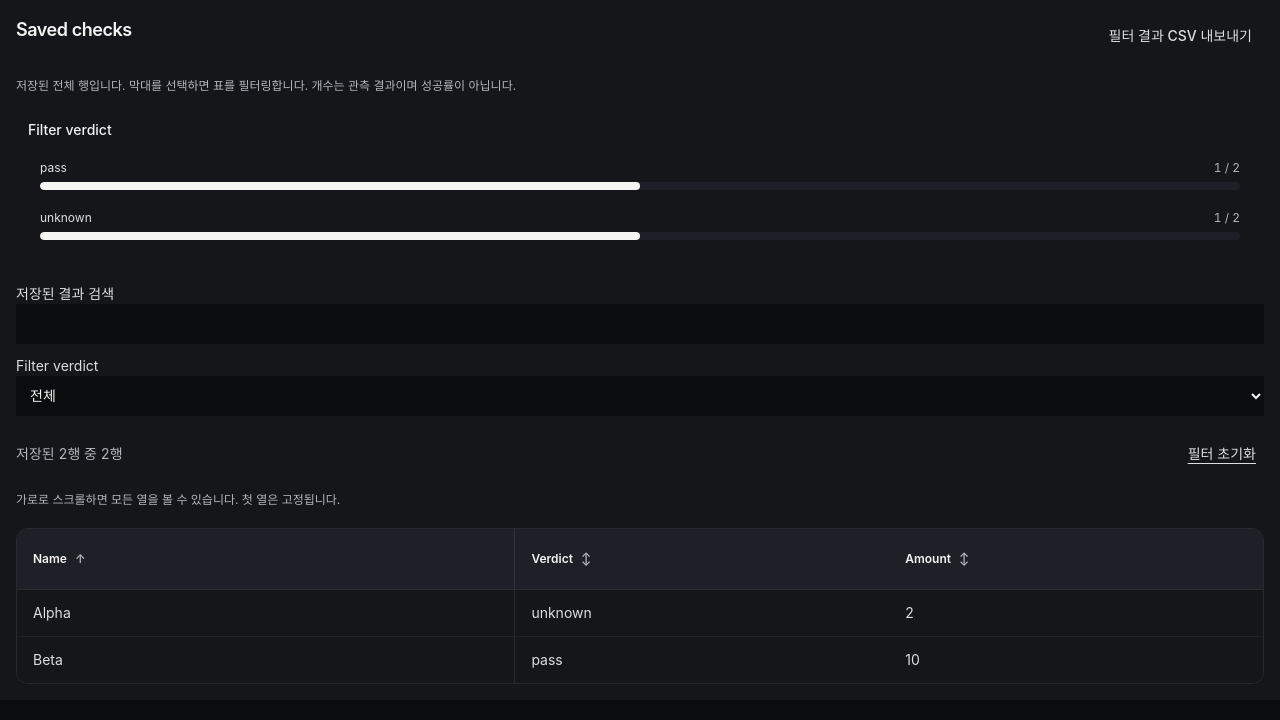
Test case: filters by chart, persists URL, restores back/forward, sorts and resets in ko
The width and height of the screenshot is (1280, 720).
Later steps or results of the test are not shown.
Click the button with aria-label "unknown · 1 / 2" at (66, 217), box [32,202,1248,248]
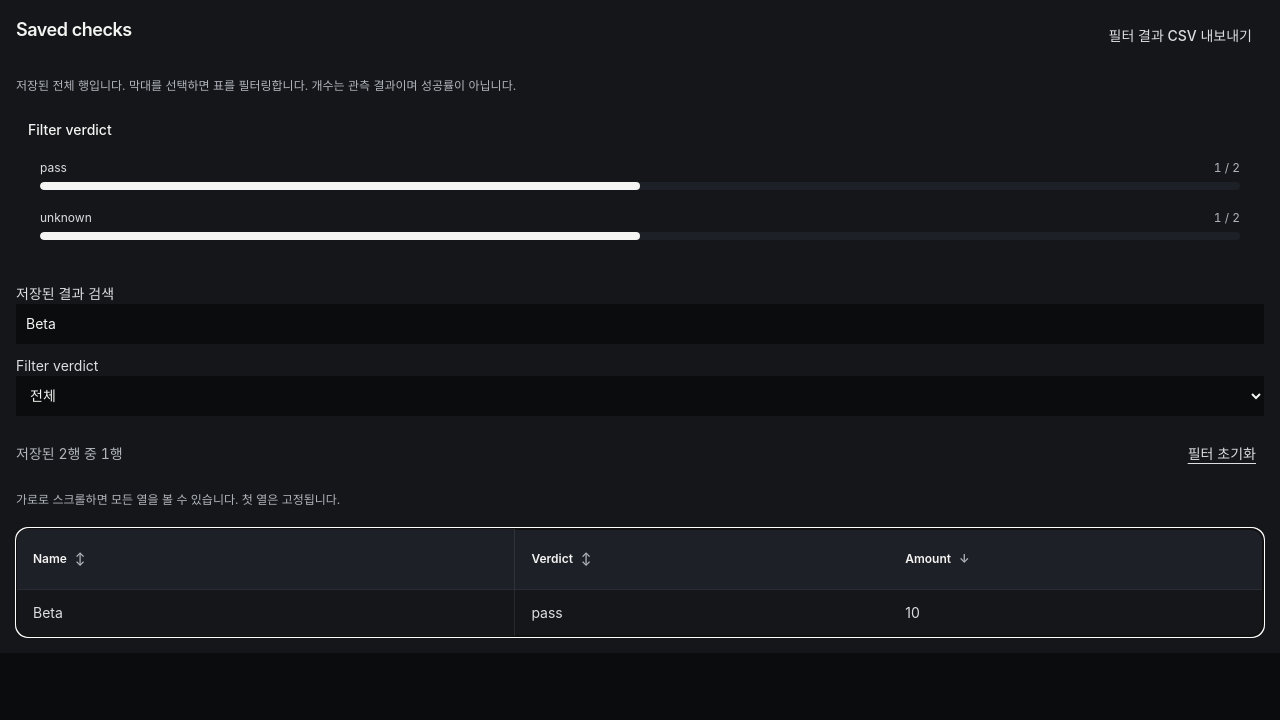
expect the text "Beta" is shown: met, box [17,590,515,636]
expect the search field holds "Beta": met, box [16,304,1264,344]
Click the button "필터 초기화" at (1222, 454), box [1180,436,1264,472]
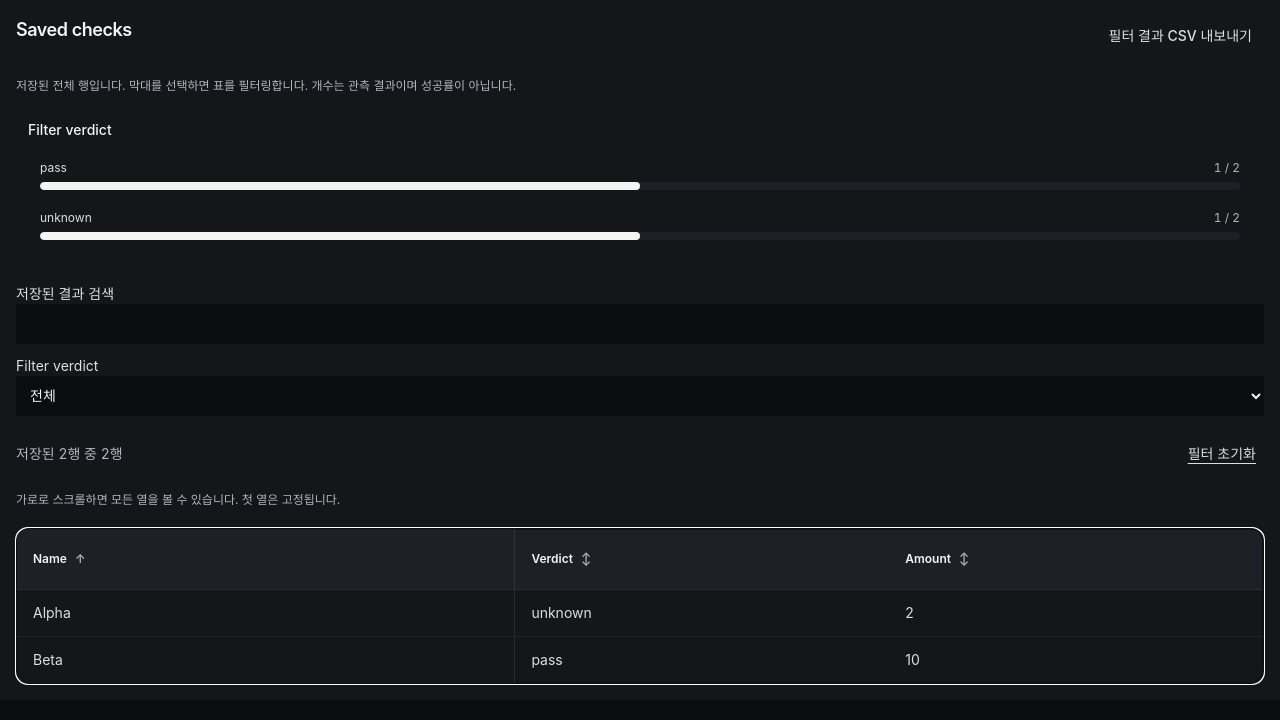
expect the search field is empty: met, box [16,304,1264,344]
expect the text "Alpha" is shown: met, box [17,590,515,637]
